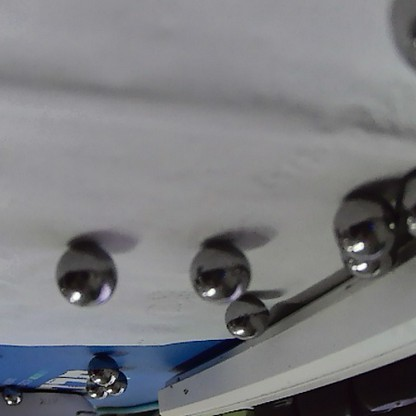ironball: (49, 230, 111, 308), (322, 191, 387, 254), (178, 247, 247, 304), (341, 245, 386, 294), (219, 295, 261, 333), (79, 355, 119, 387), (393, 177, 414, 236), (71, 379, 103, 404), (105, 376, 132, 393)
